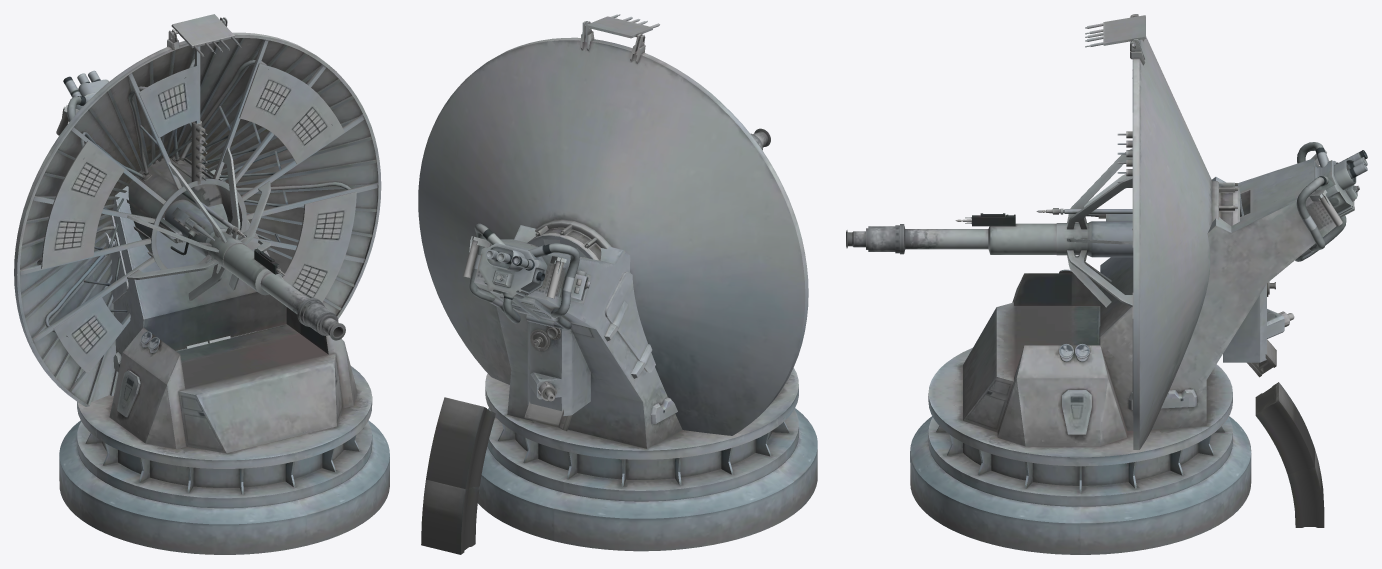
Rendered from atgar.glb.
3 renders of one model, left to right at view 1: azimuth 30°, elevation 25°; view 2: azimuth 150°, elevation 25°; view 3: azimuth 270°, elevation 25°, orthographic. The views are drawn at different scales.
Bounding box in the file's own units: 2.06 × 2.41 × 2.47.
Materials: 1 (1 with a texture image).
